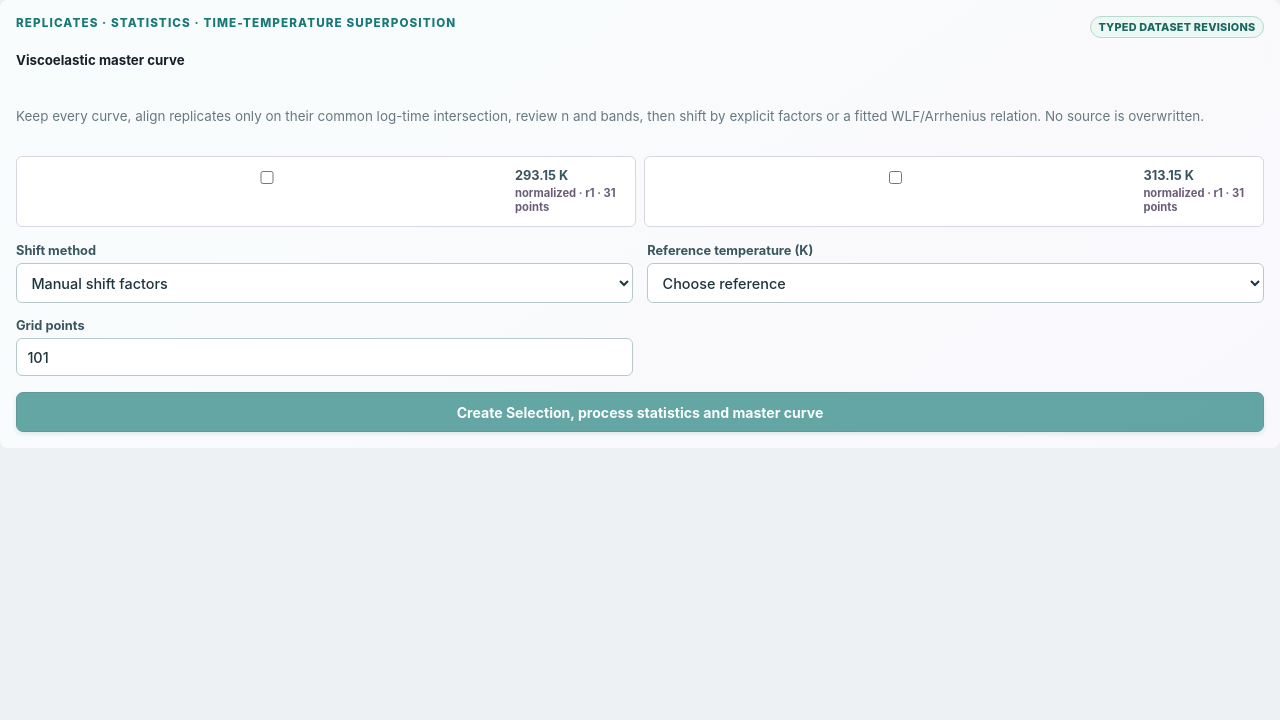
Scenario: Viscoelastic master-curve workbench › pins replicates and displays shift, n, band and master-curve evidence
The image size is (1280, 720).
Click the checkbox labelled "293.15 K normalized · r1 · 31 points": x=267, y=178 [32,171,502,184]
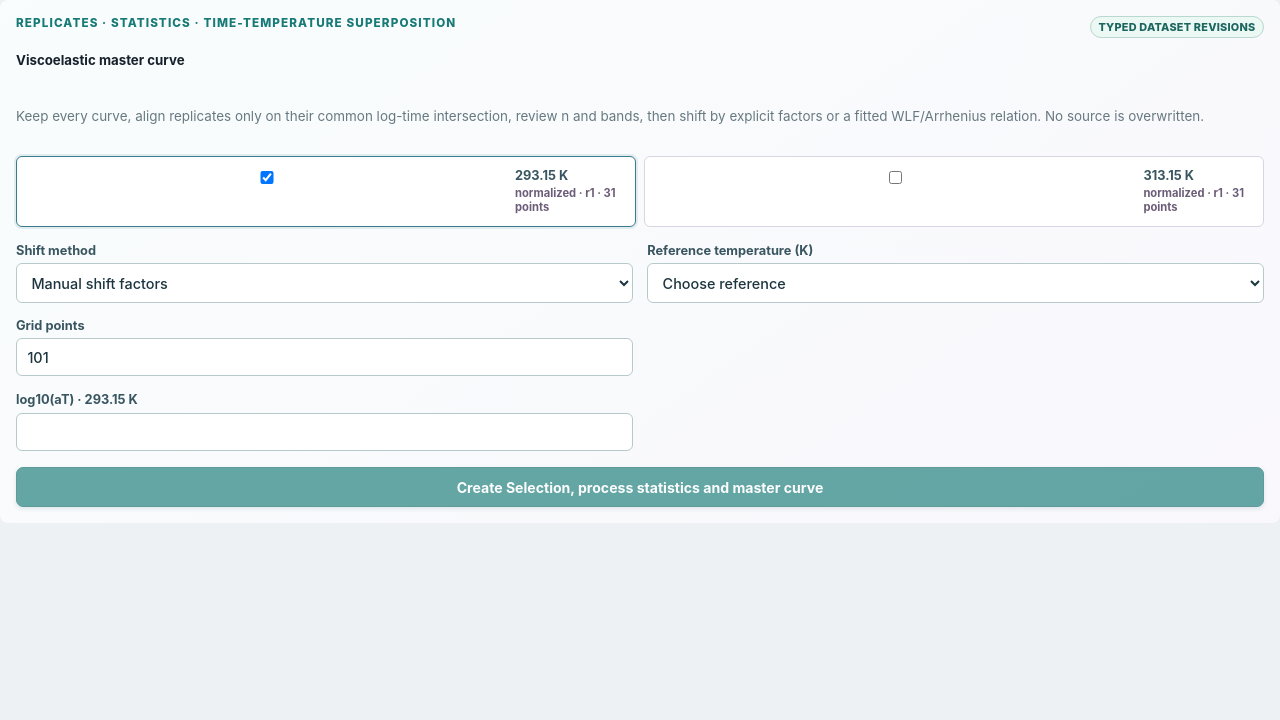
Click the checkbox labelled "313.15 K normalized · r1 · 31 points": x=895, y=178 [661,171,1130,184]
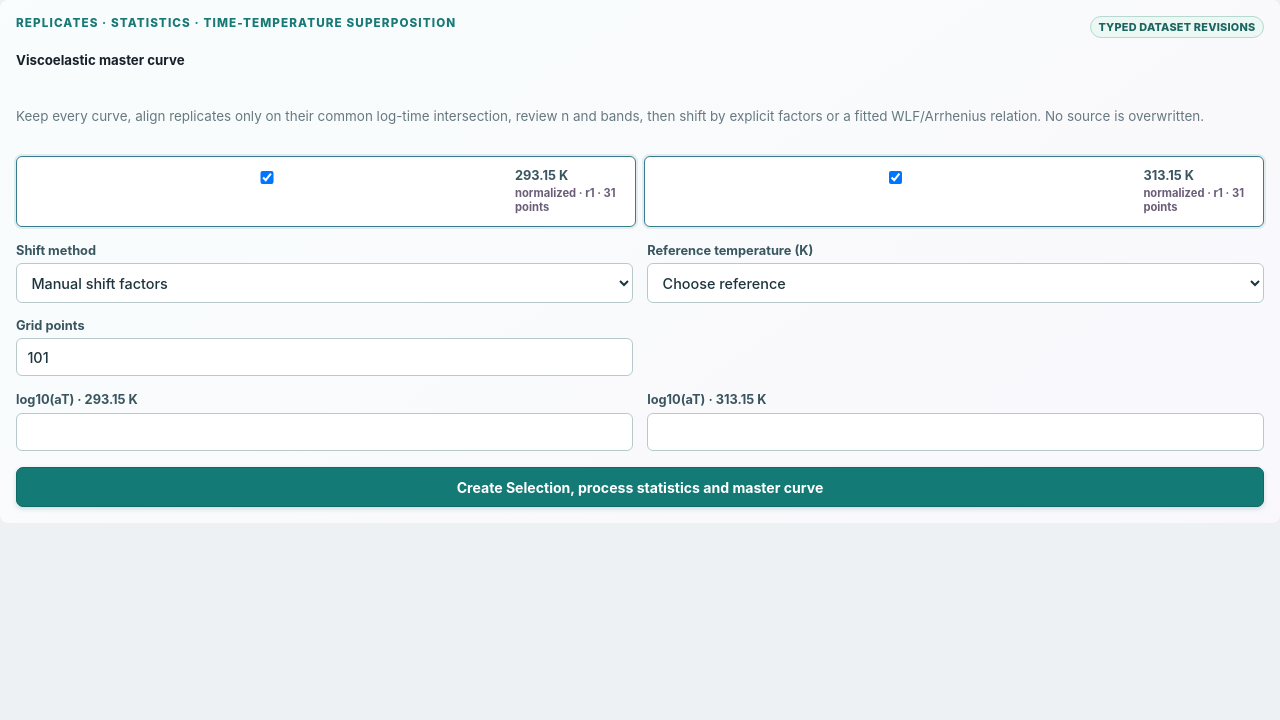
Select "293.15 K" in the dropdown labelled "Reference temperature (K)": x=956, y=283 [647,263,1264,303]
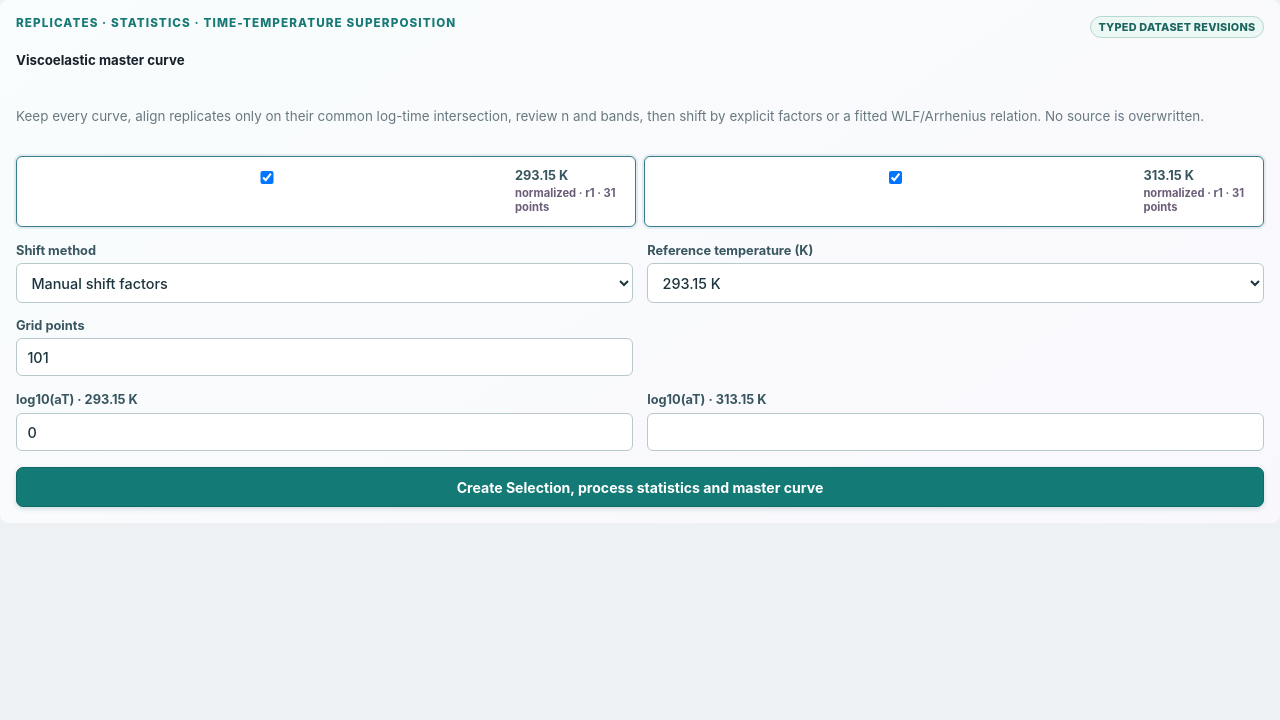
In the number field labelled "log10(aT) · 313.15 K": x=956, y=432 [647,413,1264,451], type "-1"
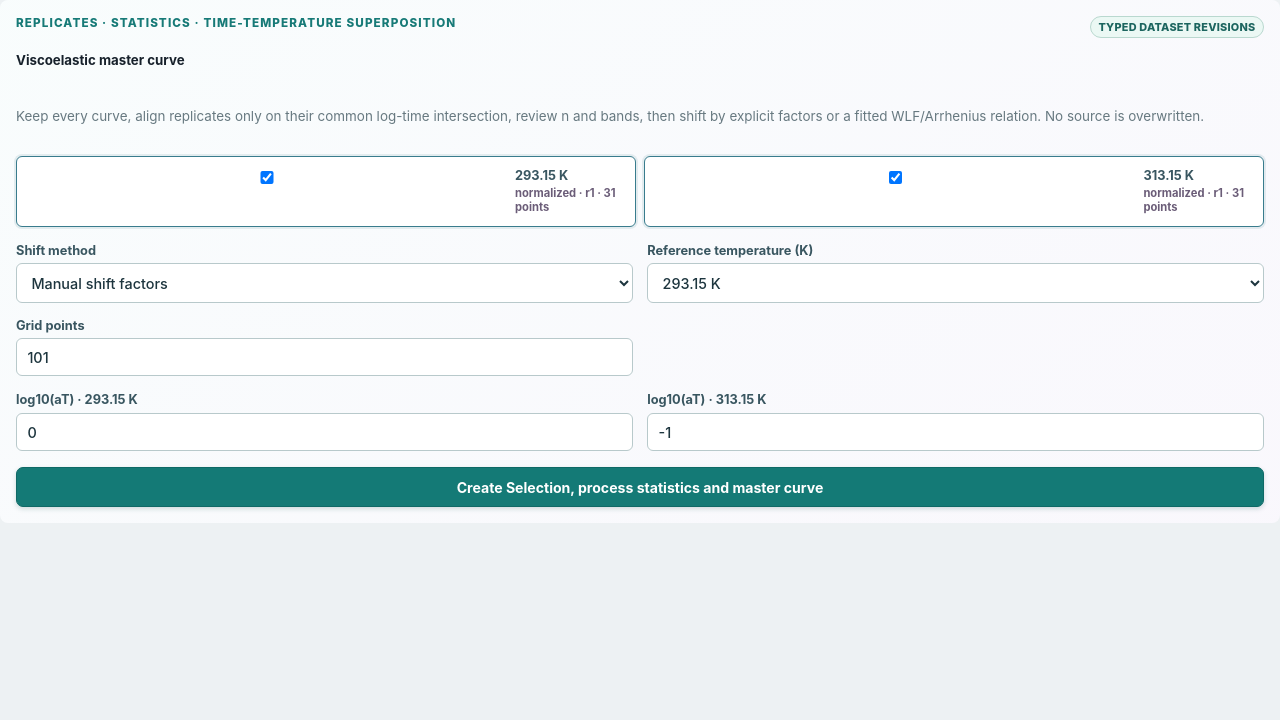
Click the button "Create Selection, process statistics and master curve": x=640, y=487 [16,467,1264,507]
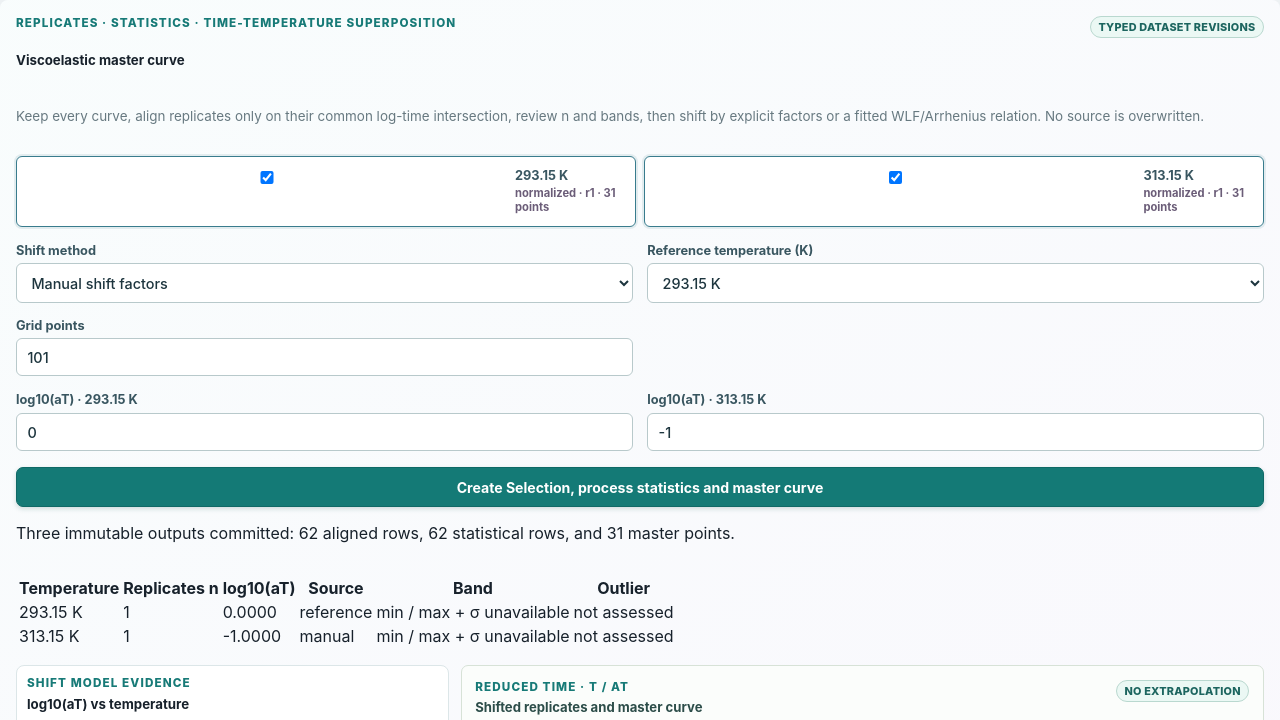
Check: the text "Three immutable outputs committed" is shown, box [16,523,299,543]
Check: the text "not assessed" in the row of "0.0000" is shown, box [574,602,674,622]
